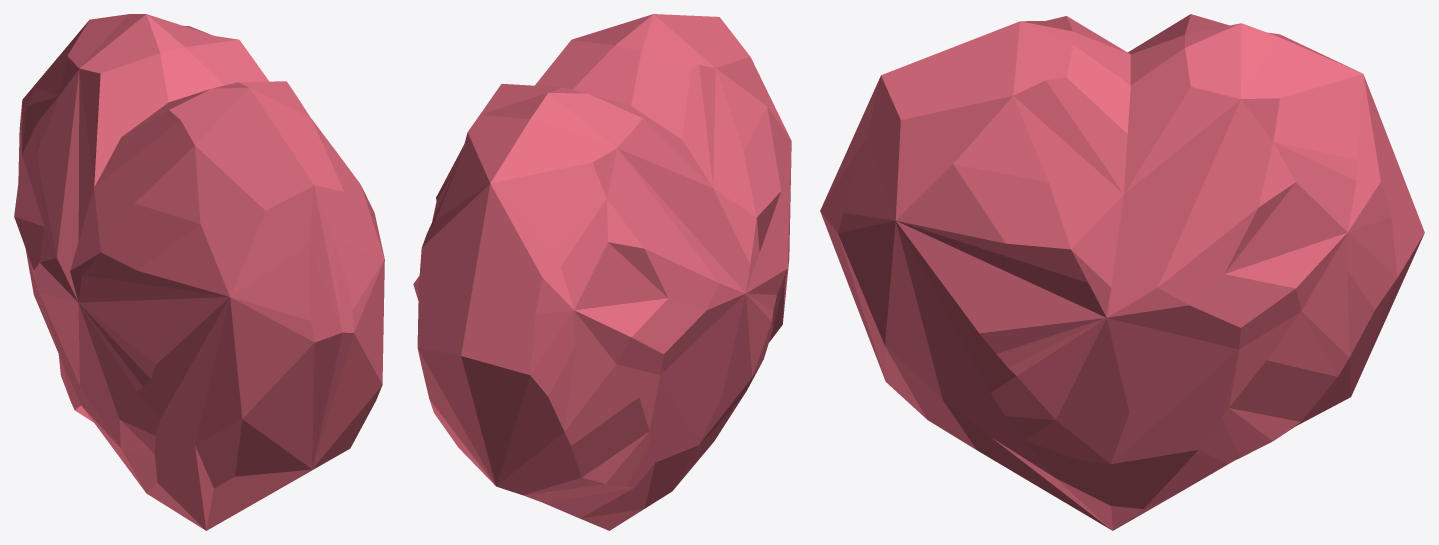
Rendered from heart.fbx.
3 views of the same model, side by side, from view 1: azimuth 30°, elevation 25°; view 2: azimuth 150°, elevation 25°; view 3: azimuth 270°, elevation 25° (orthographic). The views are drawn at different scales.
Visible parts, largest first — view 1: Plane; view 2: Plane; view 3: Plane.
Part boxes in pixels (bbox=[...]): Plane: bbox=[14, 14, 384, 530]; Plane: bbox=[413, 14, 791, 530]; Plane: bbox=[820, 14, 1424, 530].
Bounding box in the file's own units: 50.89 × 84.23 × 90.59.
